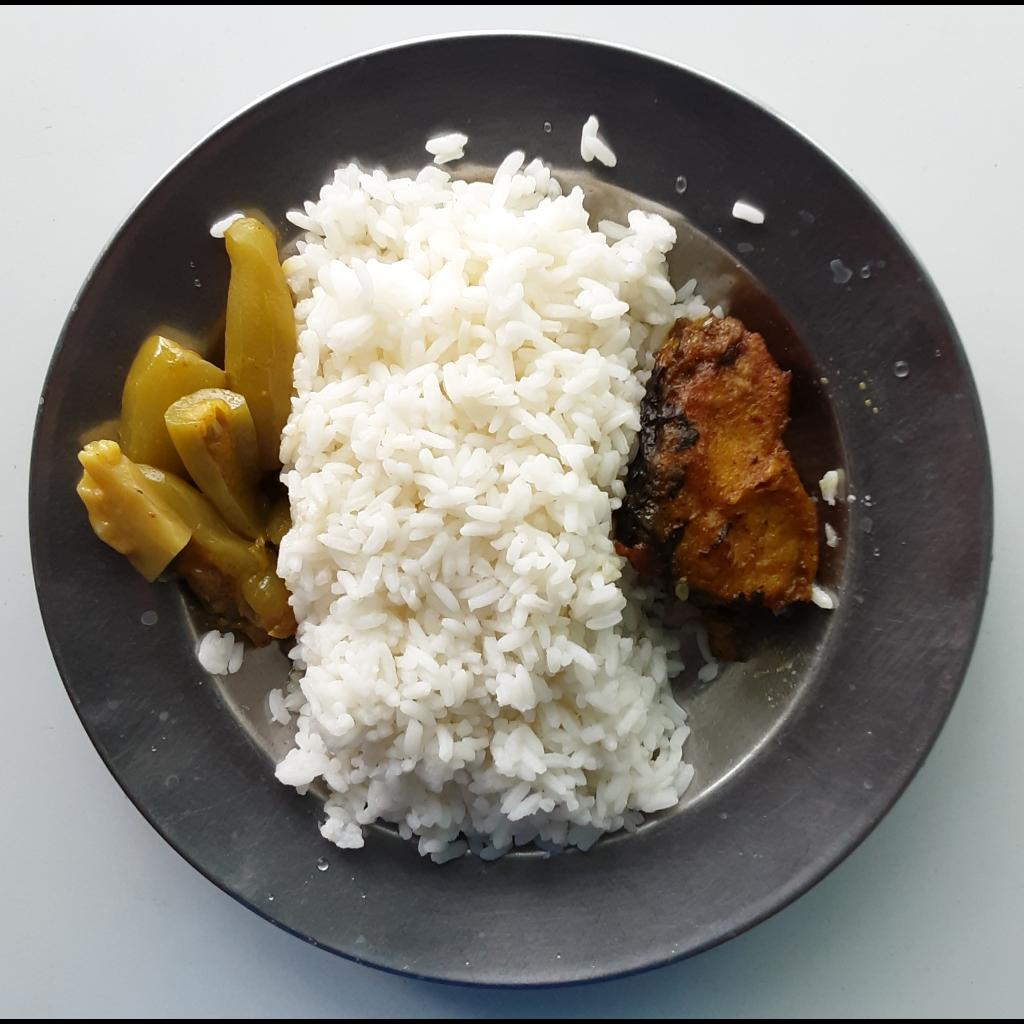fish: (625, 319, 824, 619)
potol: (73, 213, 294, 639)
rice: (263, 132, 715, 864)
